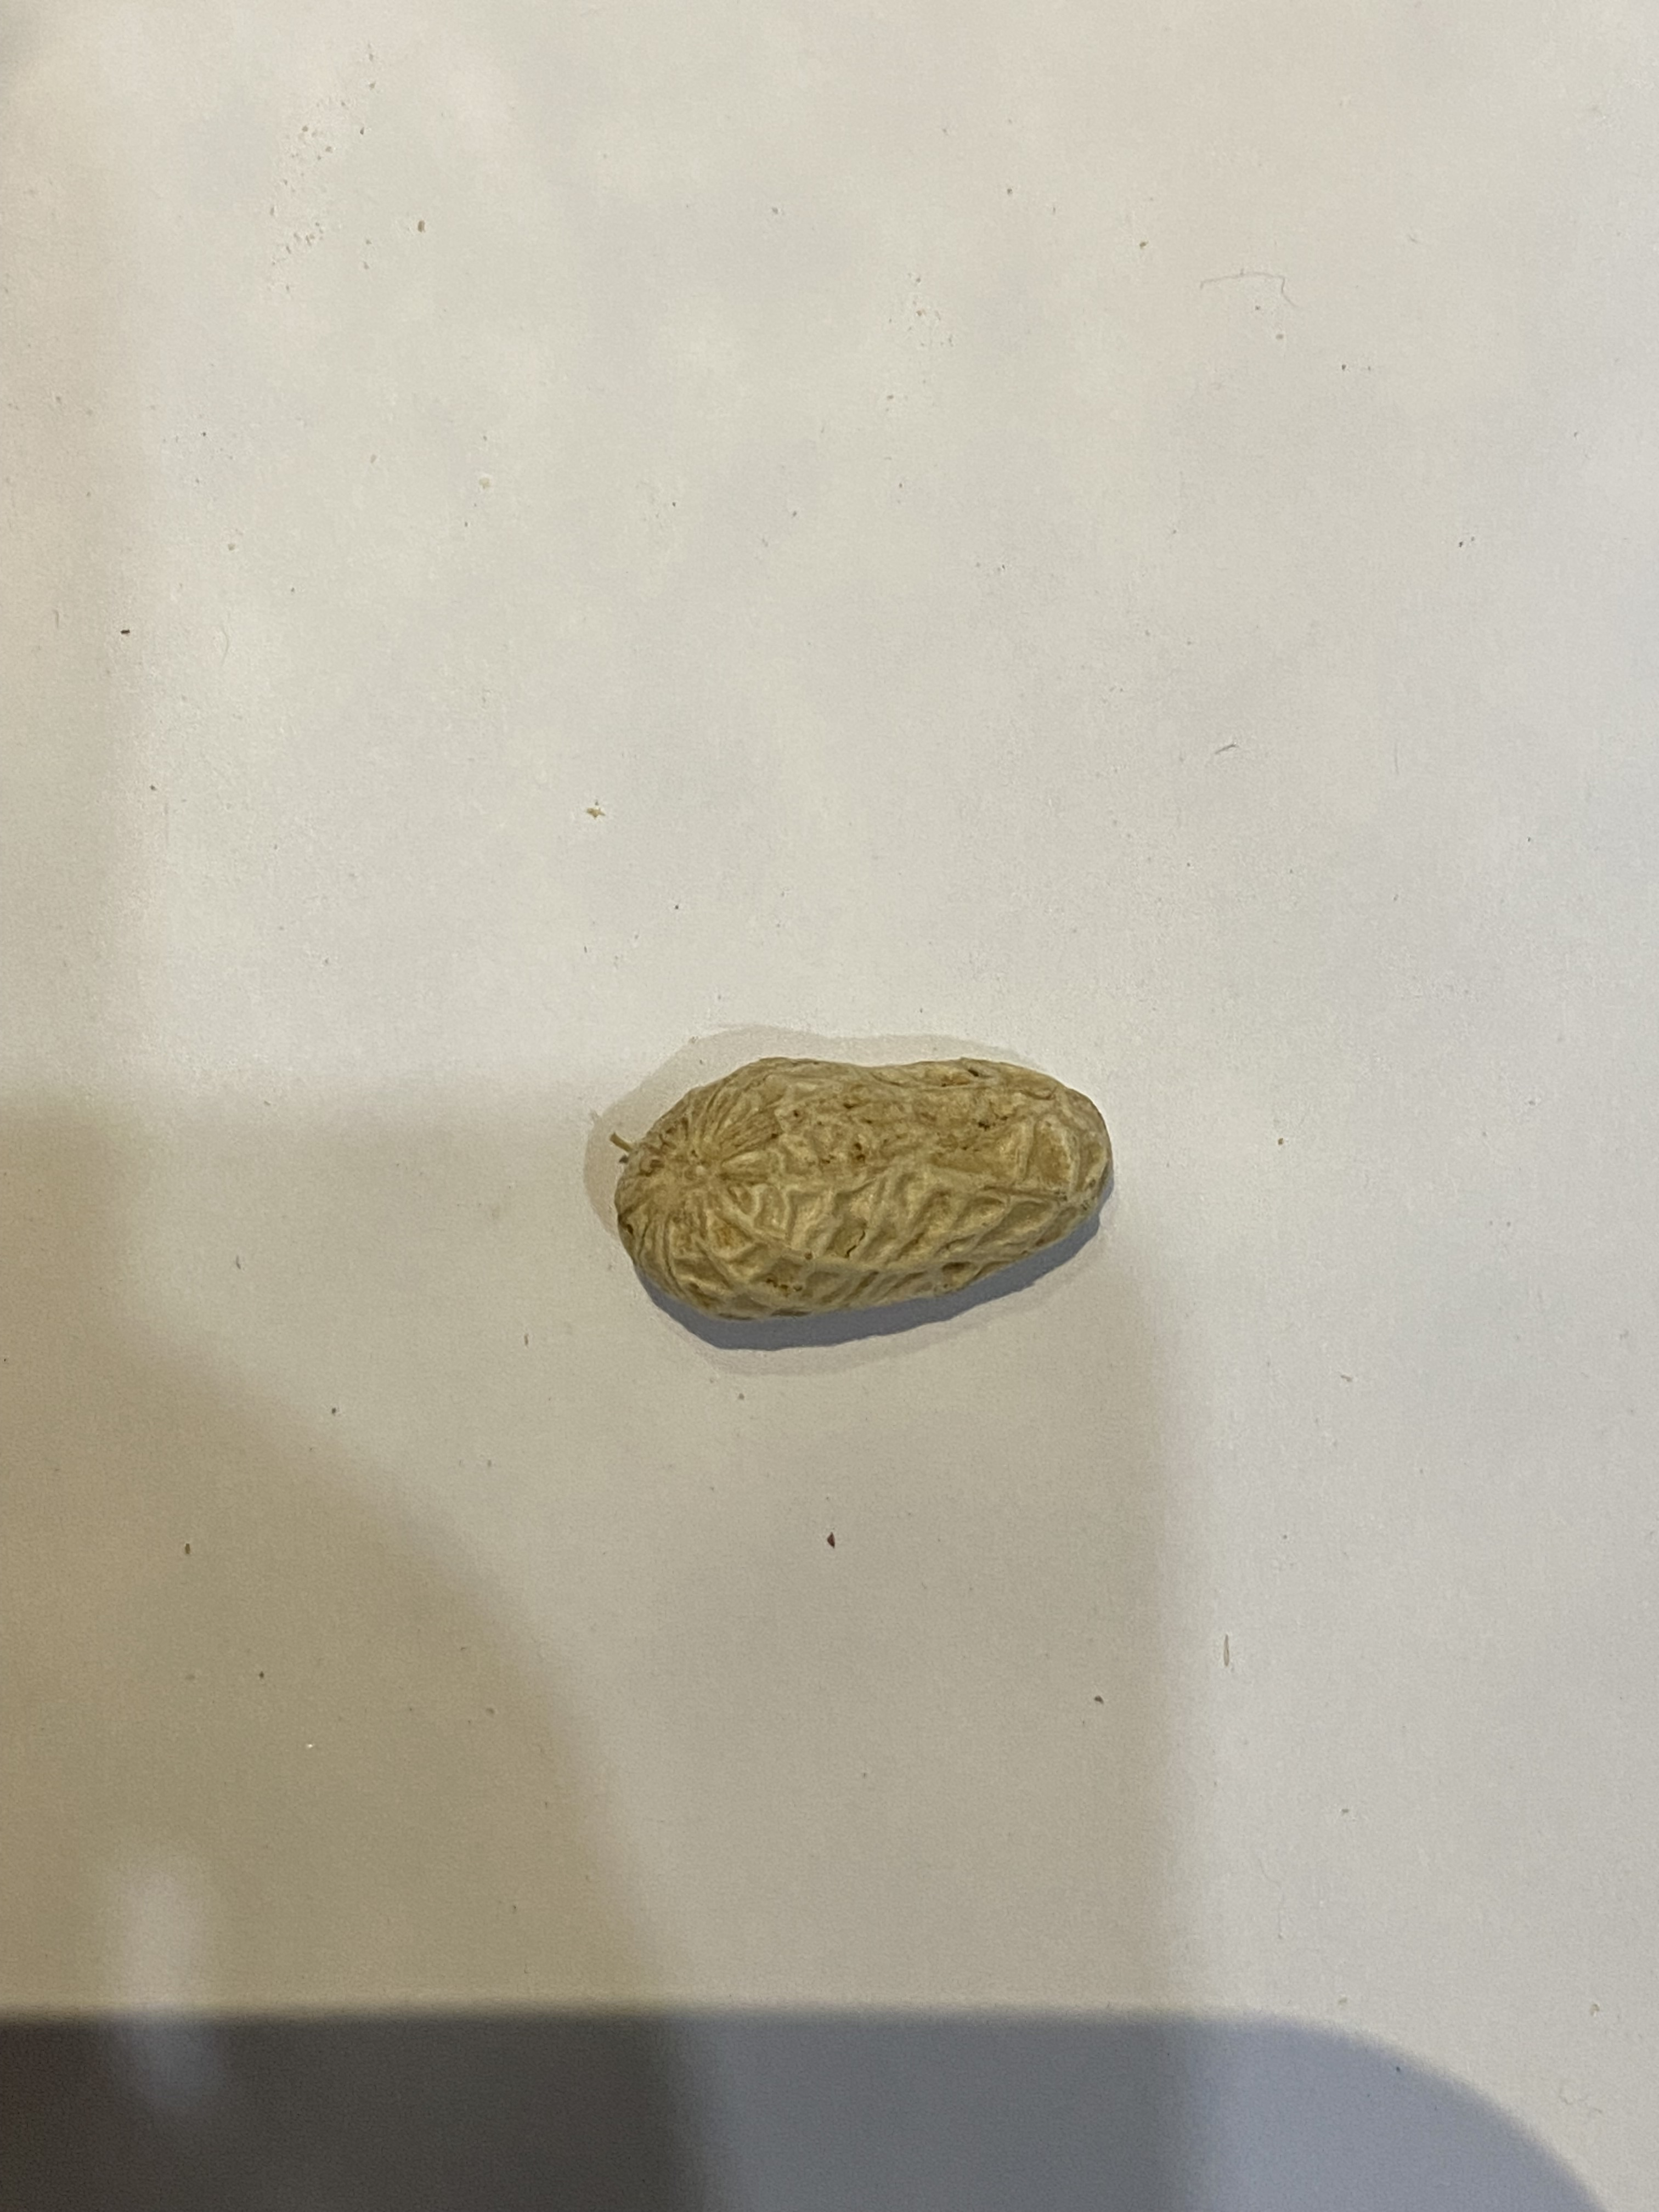kacang1: (563, 1042, 1141, 1336)
